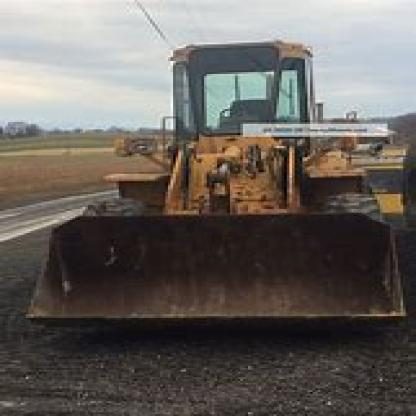bull_dozer/loader/grader: (34, 24, 414, 335)
